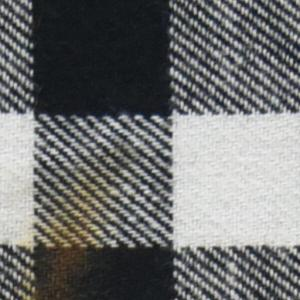Oil Stain: (13, 156, 133, 300)
